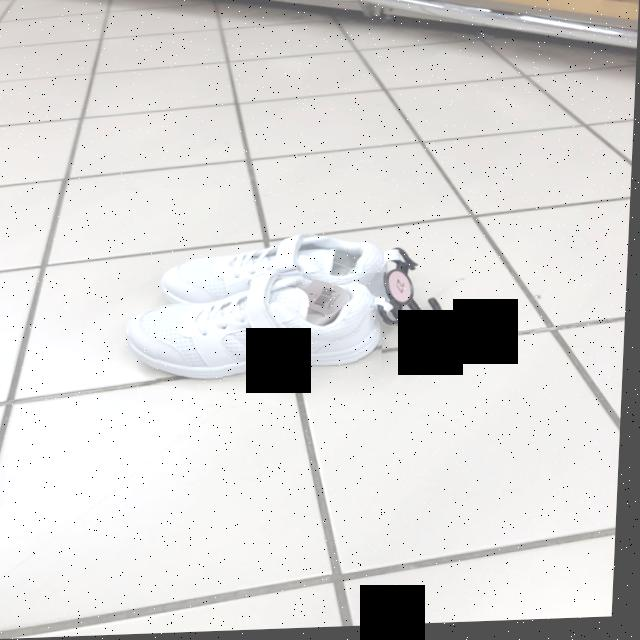shoe: (128, 278, 388, 384)
